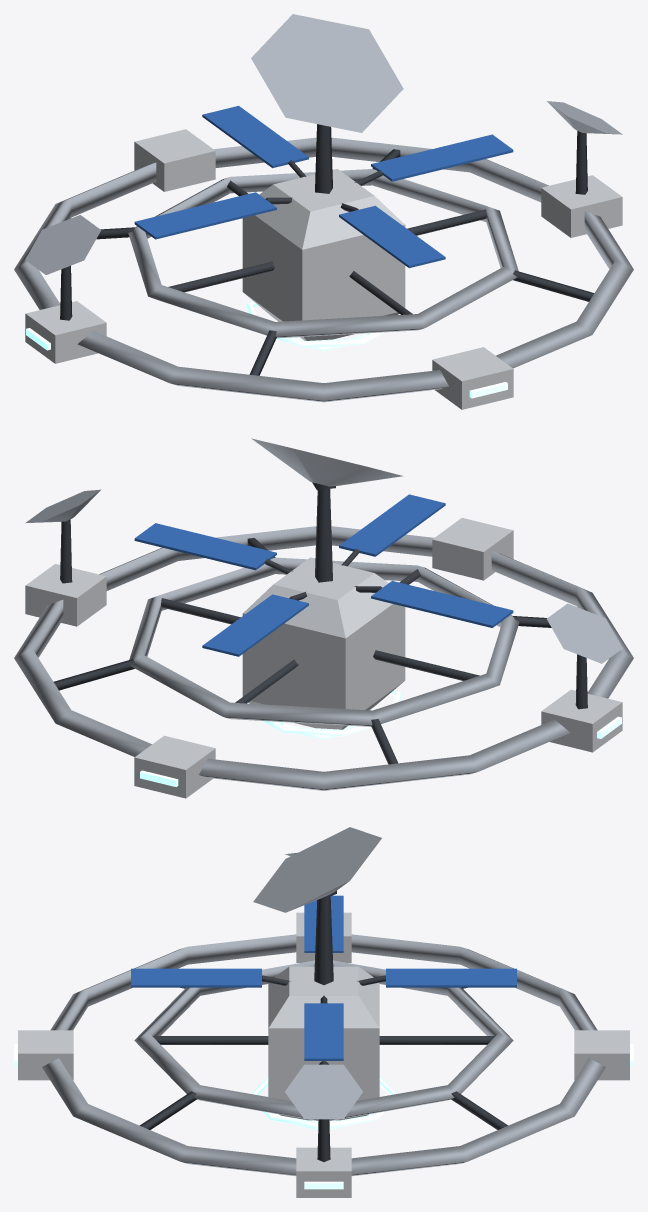
Rendered from ResearchLab_L5.glb.
3 renders of one model, top to bottom at view 1: azimuth 30°, elevation 25°; view 2: azimuth 150°, elevation 25°; view 3: azimuth 270°, elevation 25°, orthographic. The views are drawn at different scales.
Parts seen in each view (by area): view 1: outer_ring, lab_core, deep_space_dish, observation_ring, ring_module_3, ring_module_1, ring_module_0, ring_module_2, solar_array_L, solar_array_R, solar_array_aft_R, solar_array_aft_L (+10 smaller); view 2: outer_ring, lab_core, observation_ring, ring_module_1, ring_module_3, ring_module_0, ring_module_2, solar_array_L, solar_array_R, solar_array_aft_L, solar_array_aft_R, relay_dish_L (+10 smaller); view 3: outer_ring, lab_core, observation_ring, deep_space_dish, relay_dish_R, solar_array_aft_R, solar_array_aft_L, ring_module_1, ring_module_3, ring_module_0, solar_array_R, mast (+8 smaller).
Boxes of the visible parts, left/top/right/bottom form: outer_ring: left=14, top=137, right=633, bottom=402; lab_core: left=242, top=169, right=405, bottom=340; deep_space_dish: left=251, top=14, right=403, bottom=132; observation_ring: left=128, top=169, right=518, bottom=338; ring_module_3: left=134, top=129, right=215, bottom=191; ring_module_1: left=432, top=347, right=513, bottom=409; ring_module_0: left=541, top=175, right=622, bottom=237; ring_module_2: left=25, top=301, right=106, bottom=363; solar_array_L: left=134, top=192, right=276, bottom=239; solar_array_R: left=371, top=134, right=513, bottom=181; solar_array_aft_R: left=339, top=205, right=445, bottom=268; solar_array_aft_L: left=202, top=105, right=308, bottom=168; outer_ring: left=14, top=526, right=633, bottom=790; lab_core: left=242, top=557, right=405, bottom=729; observation_ring: left=129, top=557, right=519, bottom=726; ring_module_1: left=432, top=518, right=513, bottom=580; ring_module_3: left=134, top=735, right=215, bottom=798; ring_module_0: left=25, top=564, right=106, bottom=626; ring_module_2: left=541, top=689, right=622, bottom=752; solar_array_L: left=371, top=581, right=513, bottom=627; solar_array_R: left=134, top=523, right=276, bottom=570; solar_array_aft_L: left=202, top=594, right=308, bottom=656; solar_array_aft_R: left=339, top=494, right=445, bottom=556; relay_dish_L: left=547, top=603, right=622, bottom=663; outer_ring: left=42, top=934, right=605, bottom=1176; lab_core: left=268, top=966, right=379, bottom=1120; observation_ring: left=134, top=960, right=513, bottom=1120; deep_space_dish: left=253, top=827, right=381, bottom=912; relay_dish_R: left=285, top=1064, right=362, bottom=1119; solar_array_aft_R: left=131, top=968, right=261, bottom=987; solar_array_aft_L: left=386, top=968, right=516, bottom=987; ring_module_1: left=18, top=1030, right=73, bottom=1080; ring_module_3: left=574, top=1030, right=629, bottom=1080; ring_module_0: left=296, top=1147, right=351, bottom=1197; solar_array_R: left=304, top=1003, right=343, bottom=1060; mast: left=314, top=896, right=333, bottom=984.
Bounding box in the file's own units: 609 × 299 × 606.
